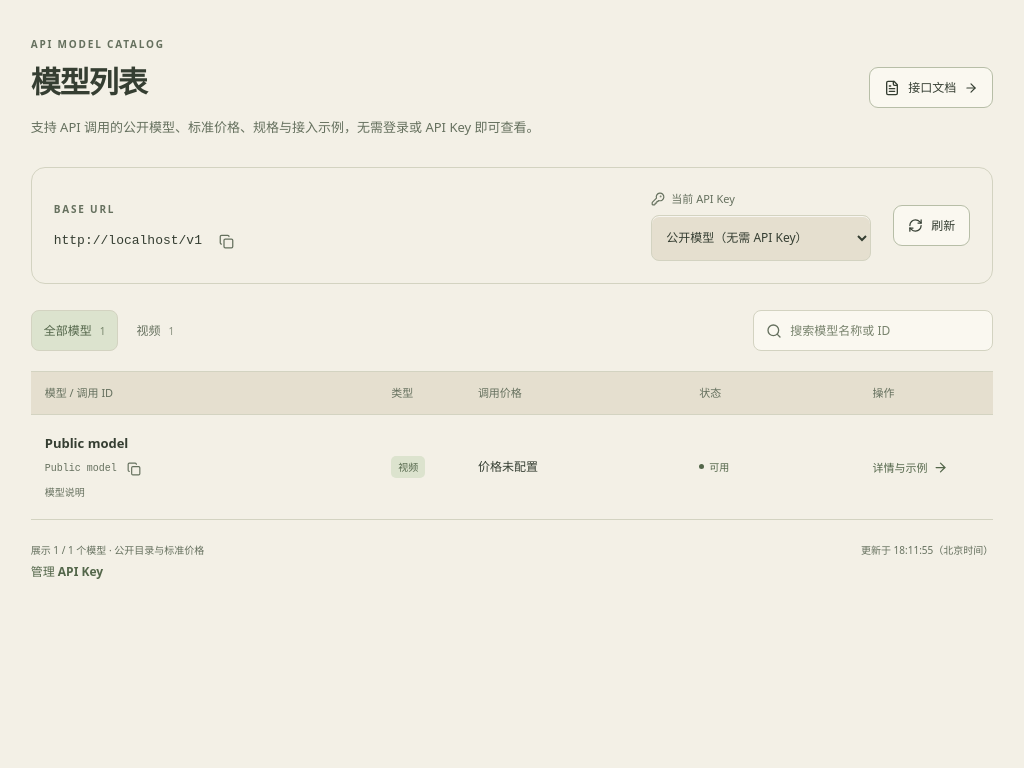
Test: API model catalog page › loads all key pages and retries a failed model request
Select "First key · sk-fir****1234" in the dropdown labelled "当前 API Key" at [761, 238], box [651,215,871,261]
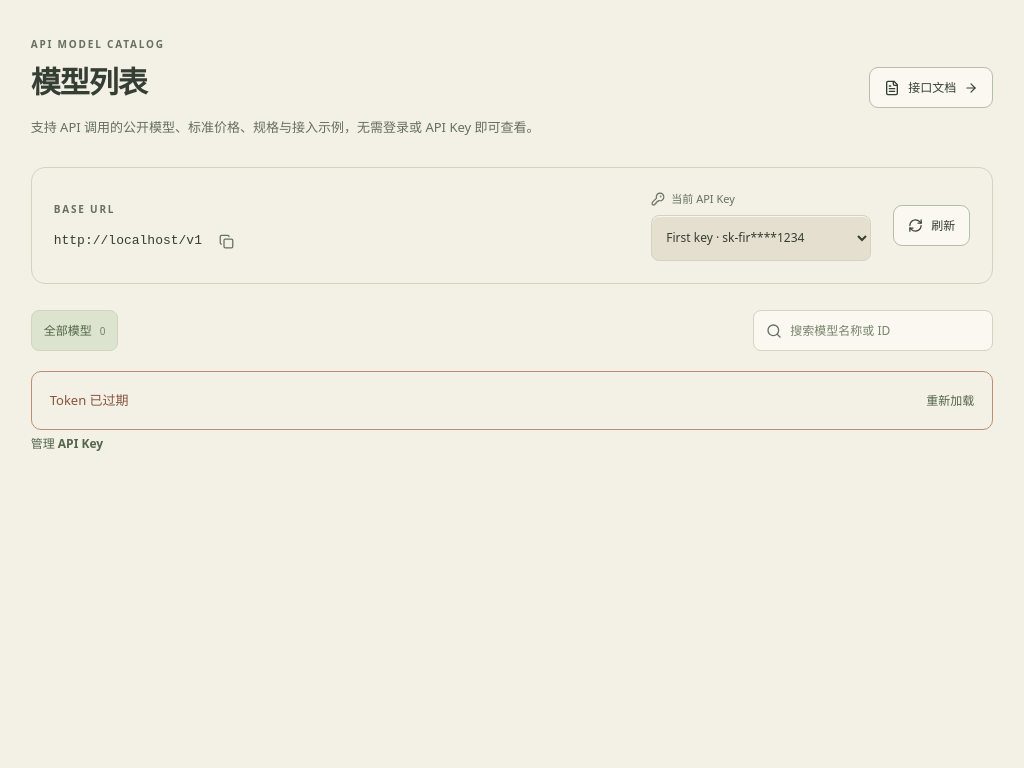
Expected: the message shows "Token 已过期", [50,391,129,409]
Click the button "重新加载" at [950, 401], box [926,391,974,410]
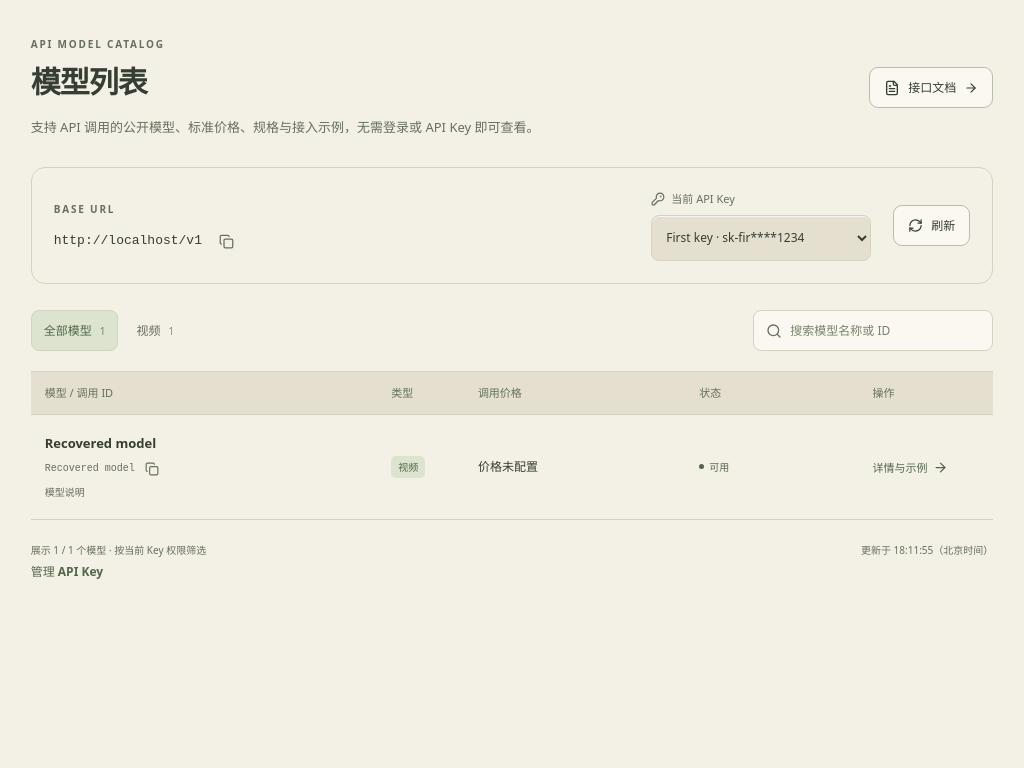
Expected: the heading "Recovered model" is shown, [45,434,156,452]
